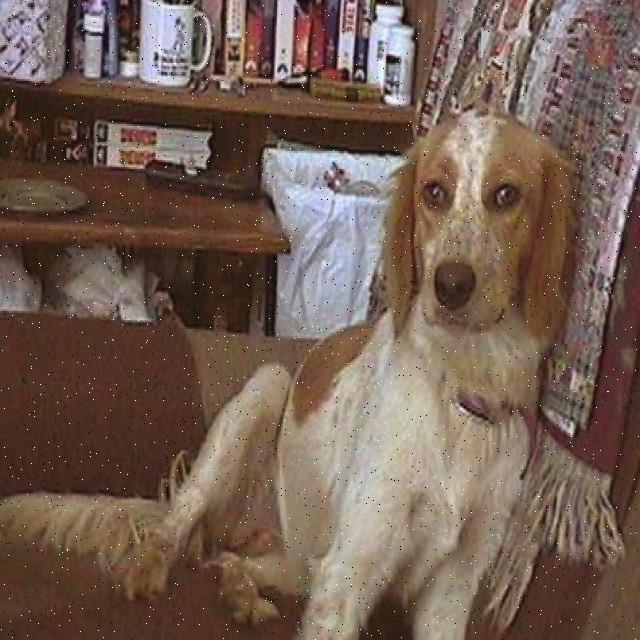Dog: (375, 98, 574, 364)
